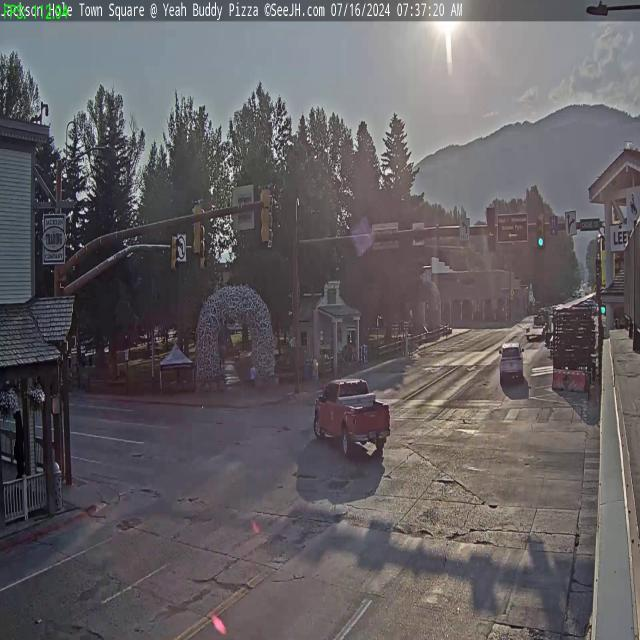pickup: (314, 375, 391, 461)
suv: (499, 342, 524, 382)
traffic light: (260, 182, 272, 245), (190, 199, 203, 256), (168, 231, 179, 278), (486, 208, 496, 255), (536, 214, 546, 248)
